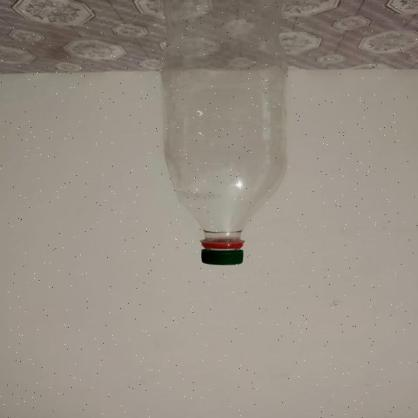bottle: (160, 0, 288, 265)
cap: (200, 243, 245, 264)
